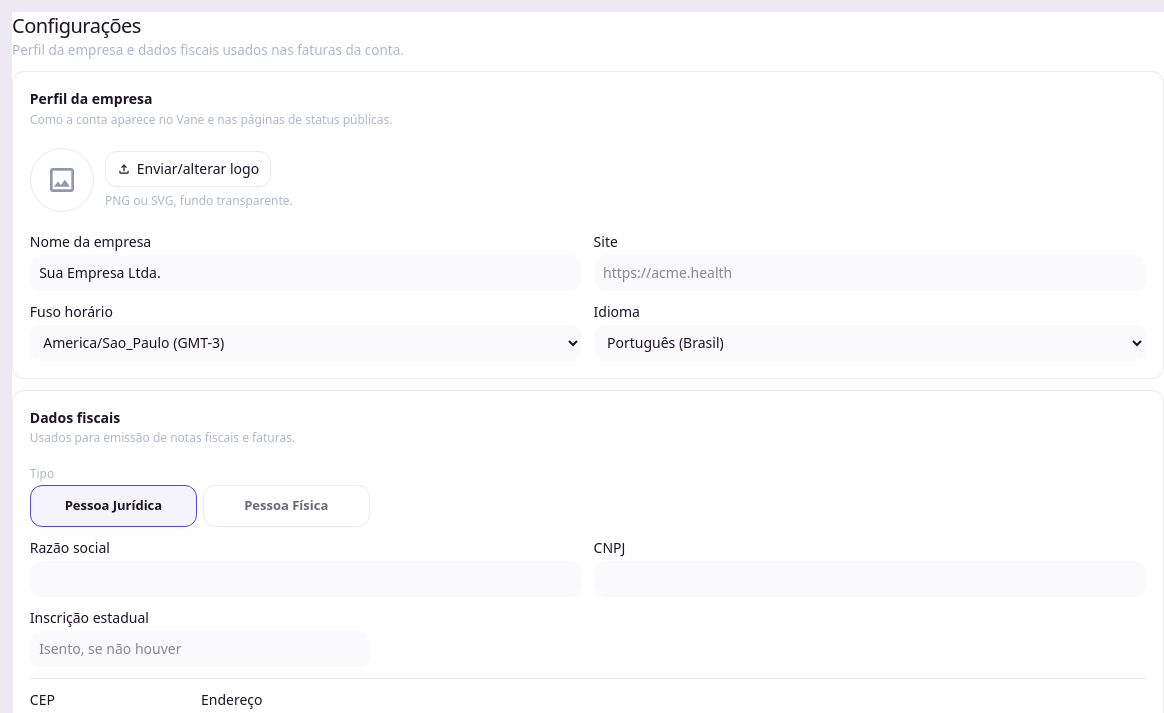
Test: SettingsPage › switching to Pessoa Física swaps the labels and hides inscrição estadual (CFGPG-06)
expect the field showing "Sua Empresa Ltda." is shown: met, box [30, 255, 582, 291]
Click the radio button labelled "Pessoa Física" at {"x": 286, "y": 506}, box [203, 485, 370, 527]
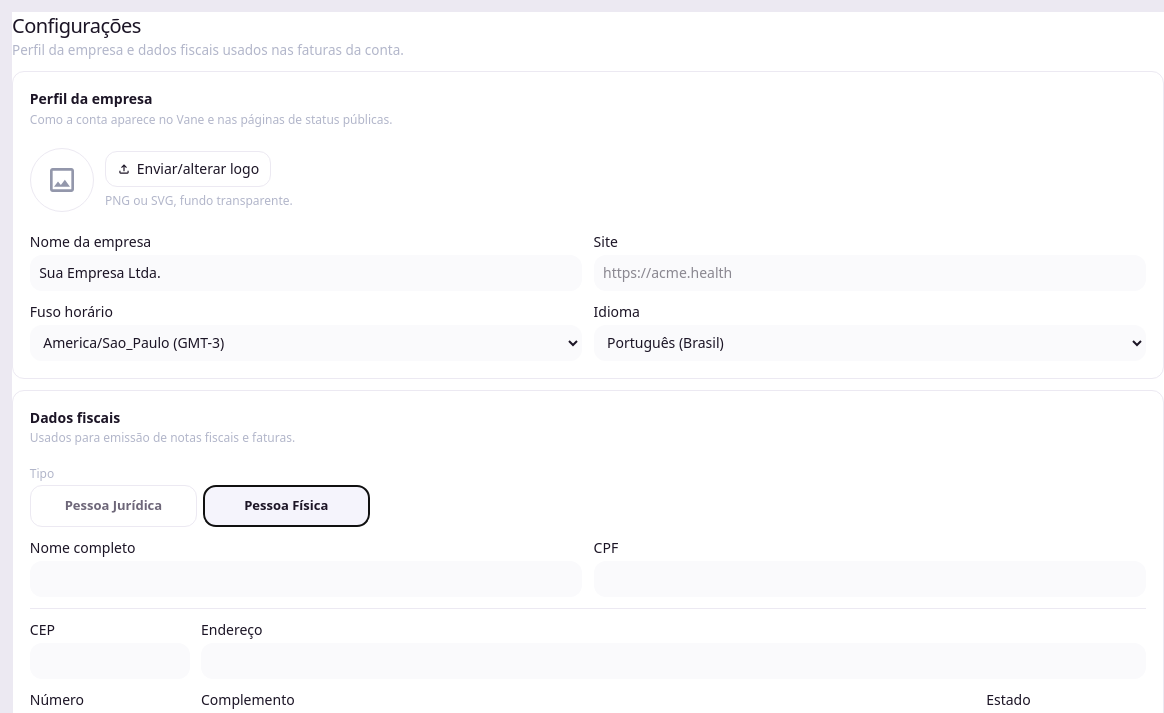
expect the label labelled "Inscrição estadual" is gone: met
